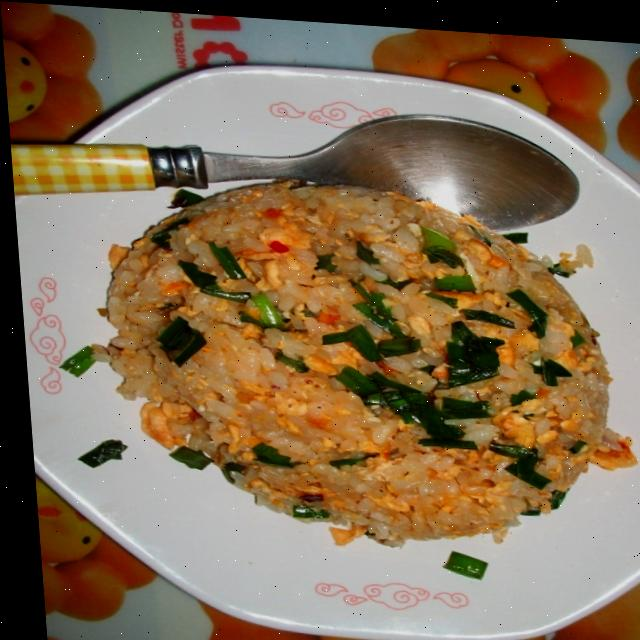米饭主食: (83, 131, 637, 575)
